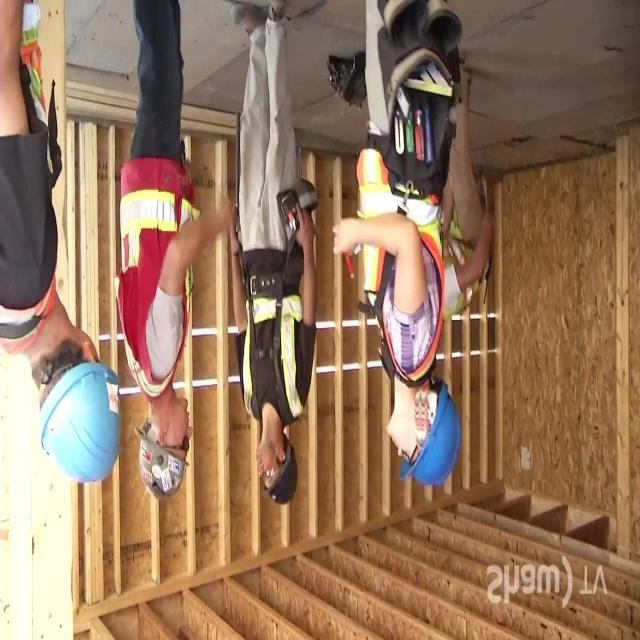helmet: (34, 352, 124, 506), (399, 388, 461, 514), (132, 428, 194, 502), (257, 441, 301, 524)
jacket: (1, 29, 58, 371), (116, 184, 209, 384), (236, 290, 309, 430)
